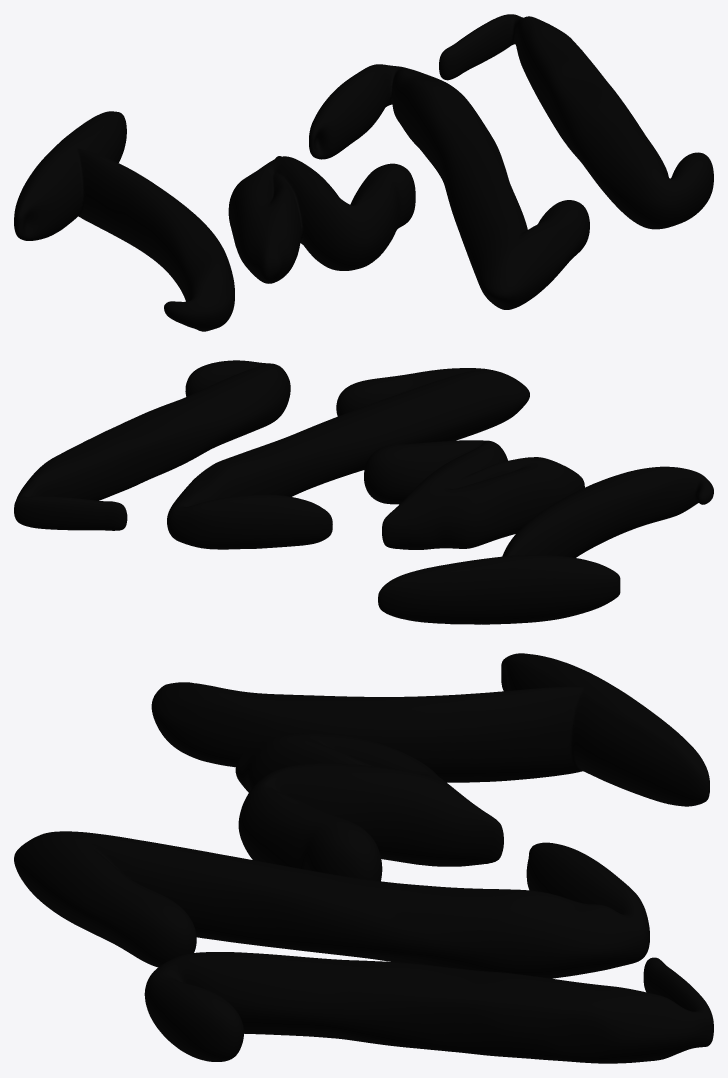
File: jazz.glb
3 views of the same model, one above another, from view 1: azimuth 30°, elevation 25°; view 2: azimuth 150°, elevation 25°; view 3: azimuth 270°, elevation 25° (orthographic). The views are drawn at different scales.
Parts seen in each view (by area): view 1: Mesh_0; view 2: Mesh_0; view 3: Mesh_0.
Part boxes in pixels (left/top/right/bottom): Mesh_0: left=14, top=14, right=713, bottom=331; Mesh_0: left=14, top=360, right=713, bottom=624; Mesh_0: left=14, top=653, right=713, bottom=1063.
Bounding box in the file's own units: 1.9 × 0.2327 × 1.52.
Materials: 1 (1 with a texture image).
